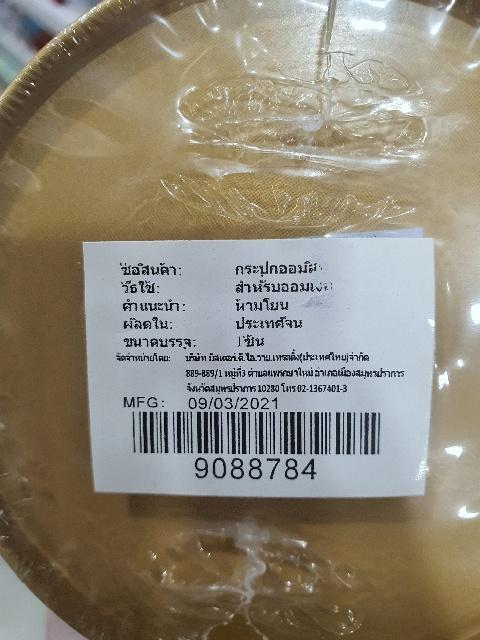Barcode: (123, 406, 398, 481)
